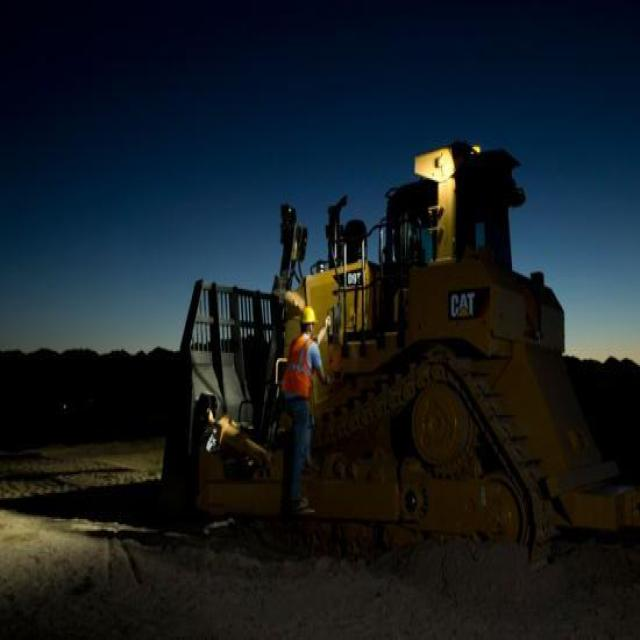buldozerpayloadergrader: (138, 111, 636, 581)
